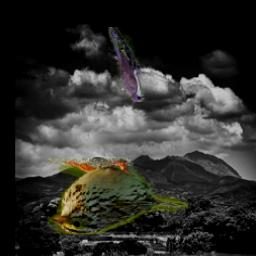Cuckoo: (108, 28, 145, 103)
Sparrow: (49, 158, 189, 234)
